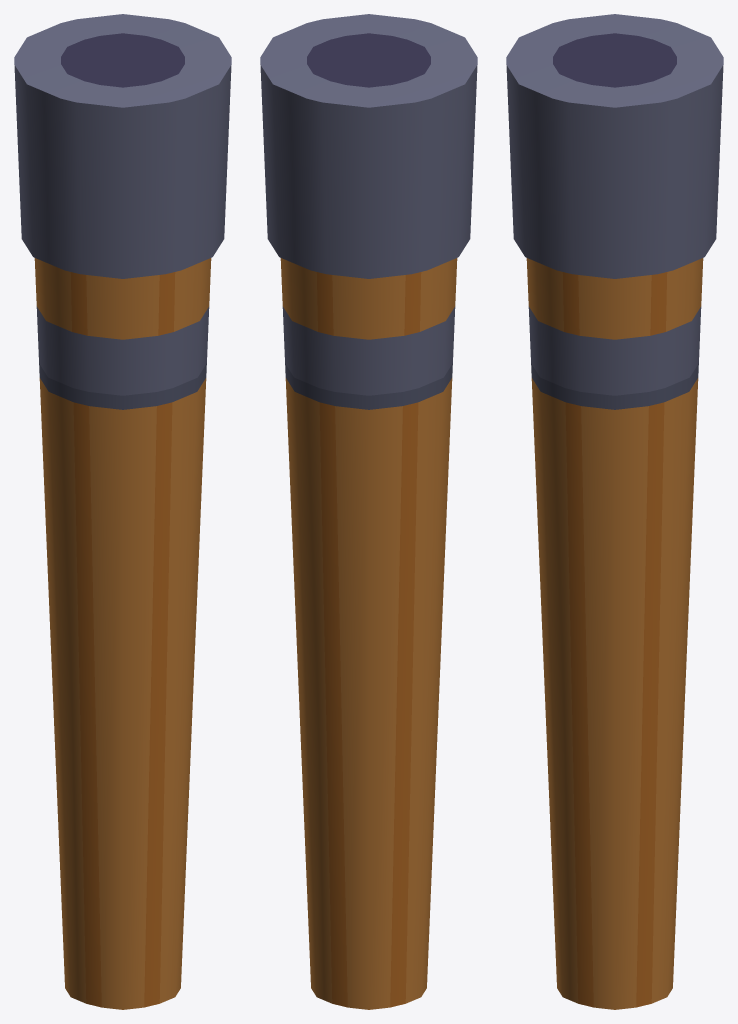
File: Torch.fbx
3 views of the same model, side by side, from view 1: azimuth 30°, elevation 25°; view 2: azimuth 150°, elevation 25°; view 3: azimuth 270°, elevation 25° (orthographic).
Parts seen in each view (by area): view 1: Circle.012; view 2: Circle.012; view 3: Circle.012.
Boxes of the visible parts, bbox=[...] form: Circle.012: bbox=[14, 14, 231, 1009]; Circle.012: bbox=[260, 14, 477, 1009]; Circle.012: bbox=[506, 14, 723, 1009].
Size of the model in its own units: 24.23 by 111 by 23.7.
